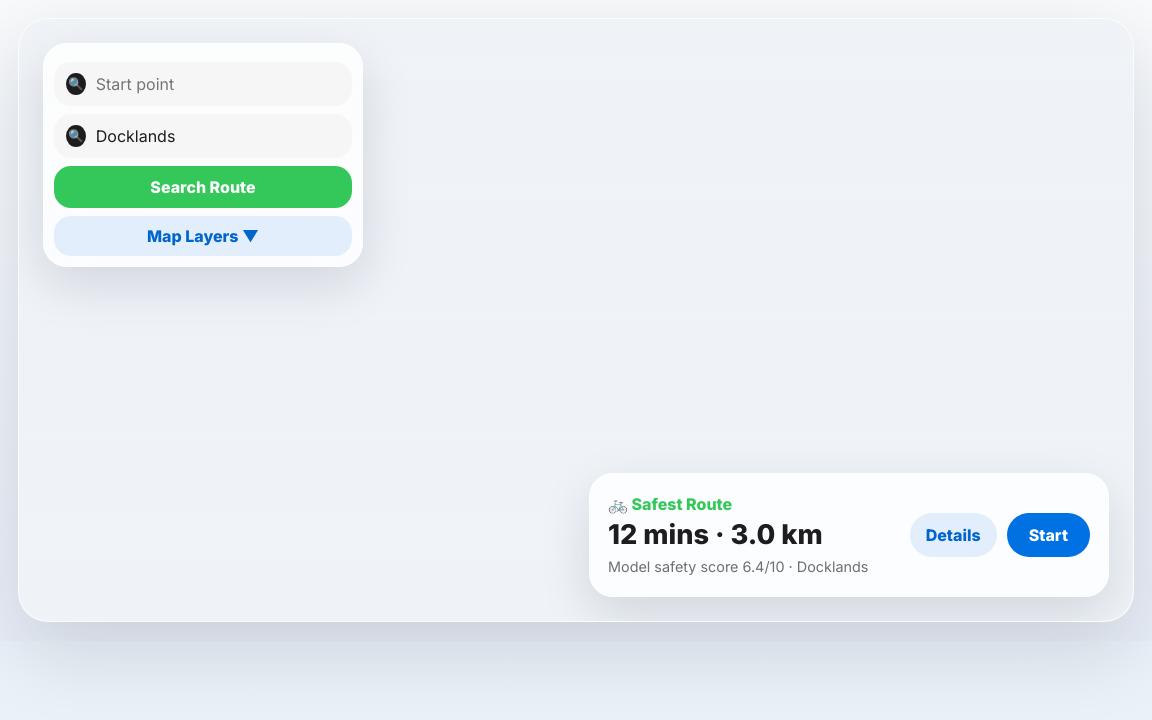
DevMapPage › uses backend model route data and sends route warnings only to console
Click the button with class "detail-toggle" at (953, 535), box [910,513,997,557]
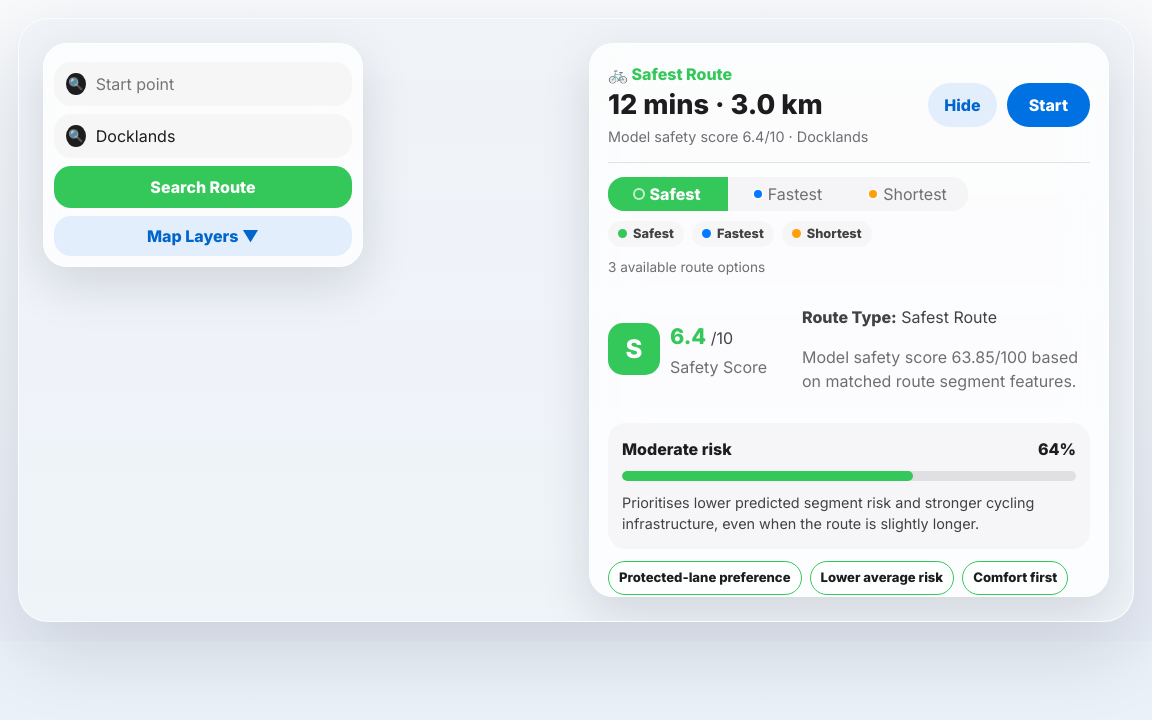
Check: the text "3 available route options" is shown, box [608,259,765,275]
Check: the text "Shortest" is shown, box [848,177,968,211]
